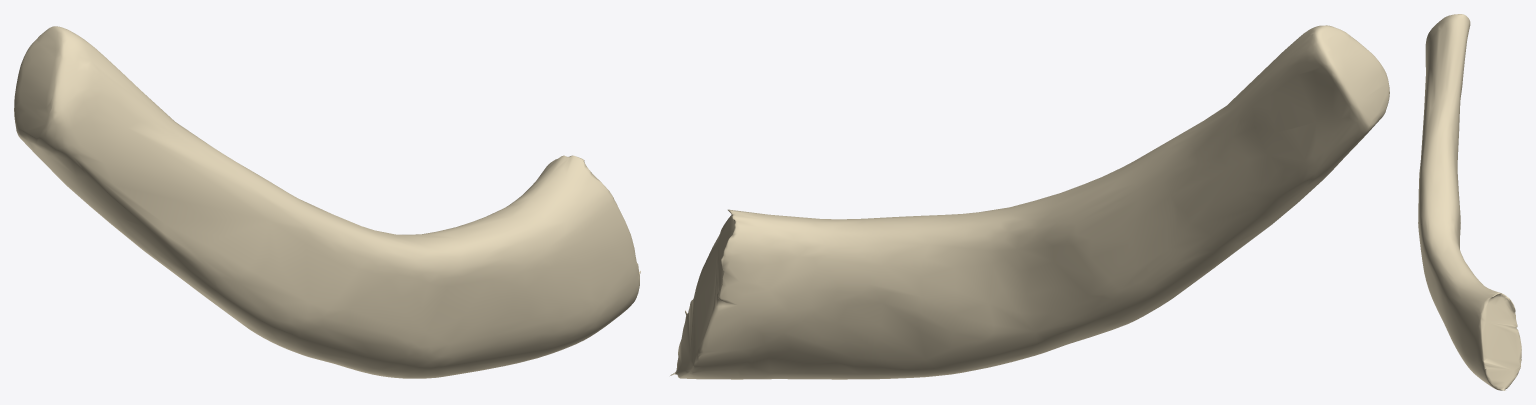
File: esqueleto-costal-cartilage-of-sixth-rib-l.glb
3 views of the same model, side by side, from view 1: azimuth 30°, elevation 25°; view 2: azimuth 150°, elevation 25°; view 3: azimuth 270°, elevation 25° (orthographic). The views are drawn at different scales.
Visible parts, largest first — view 1: Costal cartilage of sixth rib.l; view 2: Costal cartilage of sixth rib.l; view 3: Costal cartilage of sixth rib.l.
Part boxes in pixels (left/top/right/bottom): Costal cartilage of sixth rib.l: left=14, top=26, right=640, bottom=378; Costal cartilage of sixth rib.l: left=670, top=25, right=1389, bottom=379; Costal cartilage of sixth rib.l: left=1418, top=14, right=1521, bottom=390.
Size of the model in its own units: 0.0826 by 0.0557 by 0.0226.
